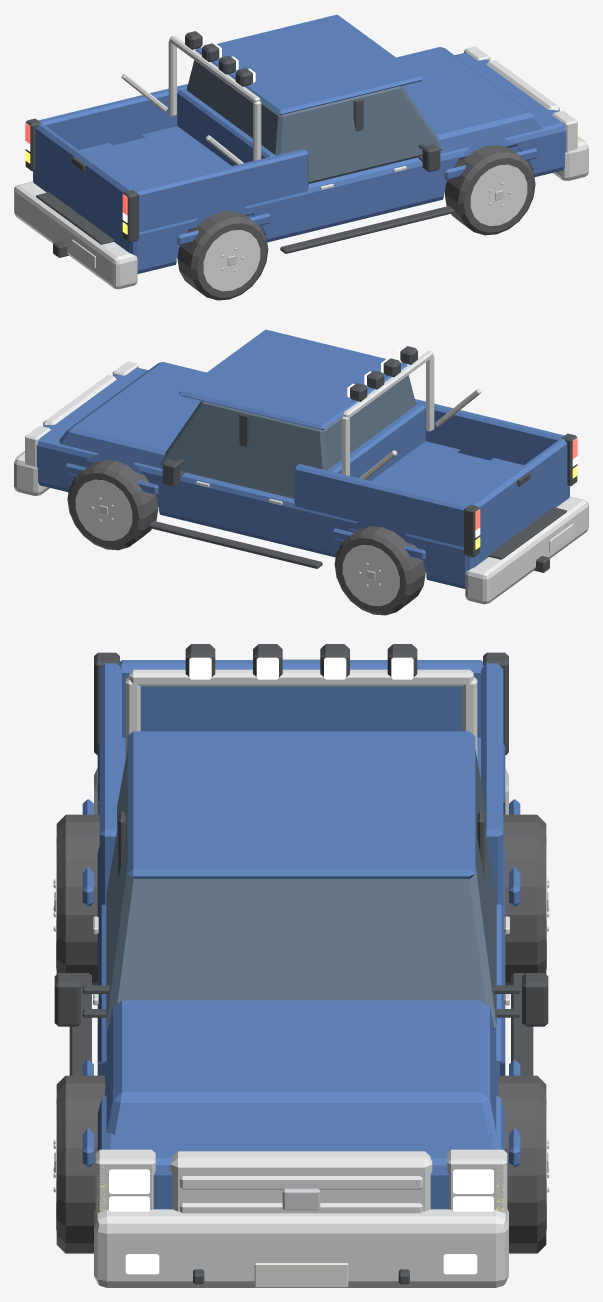
The model's file is Pickup.glb.
3 views of the same model, one above another, from view 1: azimuth 30°, elevation 25°; view 2: azimuth 150°, elevation 25°; view 3: azimuth 270°, elevation 25° (orthographic). The views are drawn at different scales.
Visible parts, largest first — view 1: Pickup_Body, Pickup_Wheel_FR, Pickup_Wheel_RR; view 2: Pickup_Body, Pickup_Wheel_FL, Pickup_Wheel_RL; view 3: Pickup_Body, Pickup_Wheel_FL, Pickup_Wheel_FR, Pickup_Wheel_RL, Pickup_Wheel_RR.
Boxes of the visible parts, box(x1,y1,x2,y2) form: Pickup_Body: box(14, 14, 588, 289); Pickup_Wheel_FR: box(444, 145, 535, 235); Pickup_Wheel_RR: box(177, 211, 268, 300); Pickup_Body: box(14, 329, 588, 604); Pickup_Wheel_FL: box(67, 460, 158, 550); Pickup_Wheel_RL: box(334, 526, 425, 615); Pickup_Body: box(54, 644, 548, 1287); Pickup_Wheel_FL: box(497, 1075, 549, 1253); Pickup_Wheel_FR: box(53, 1075, 105, 1253); Pickup_Wheel_RL: box(503, 814, 549, 985); Pickup_Wheel_RR: box(53, 814, 99, 985).
Bounding box in the file's own units: 6.05 × 2.27 × 2.65.
